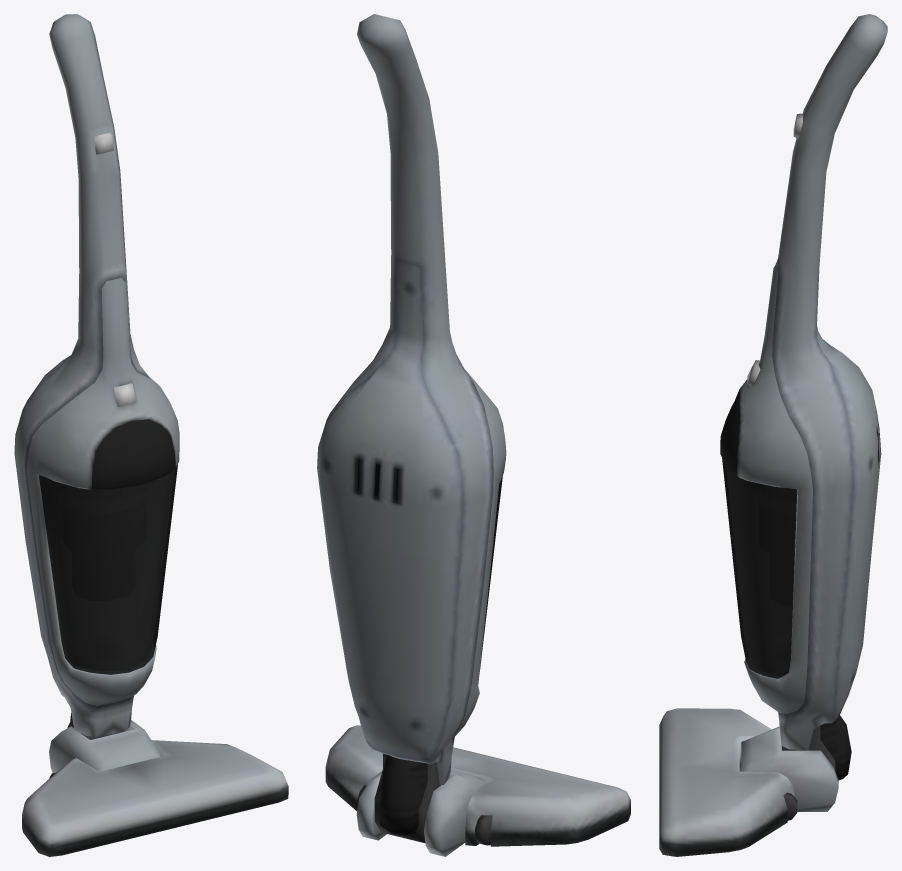
3 renders of one model, left to right at view 1: azimuth 30°, elevation 25°; view 2: azimuth 150°, elevation 25°; view 3: azimuth 270°, elevation 25°, orthographic. The views are drawn at different scales.
Bounding box in the file's own units: 4.5 × 12.86 × 3.42.
Materials: 3 (3 with a texture image).
